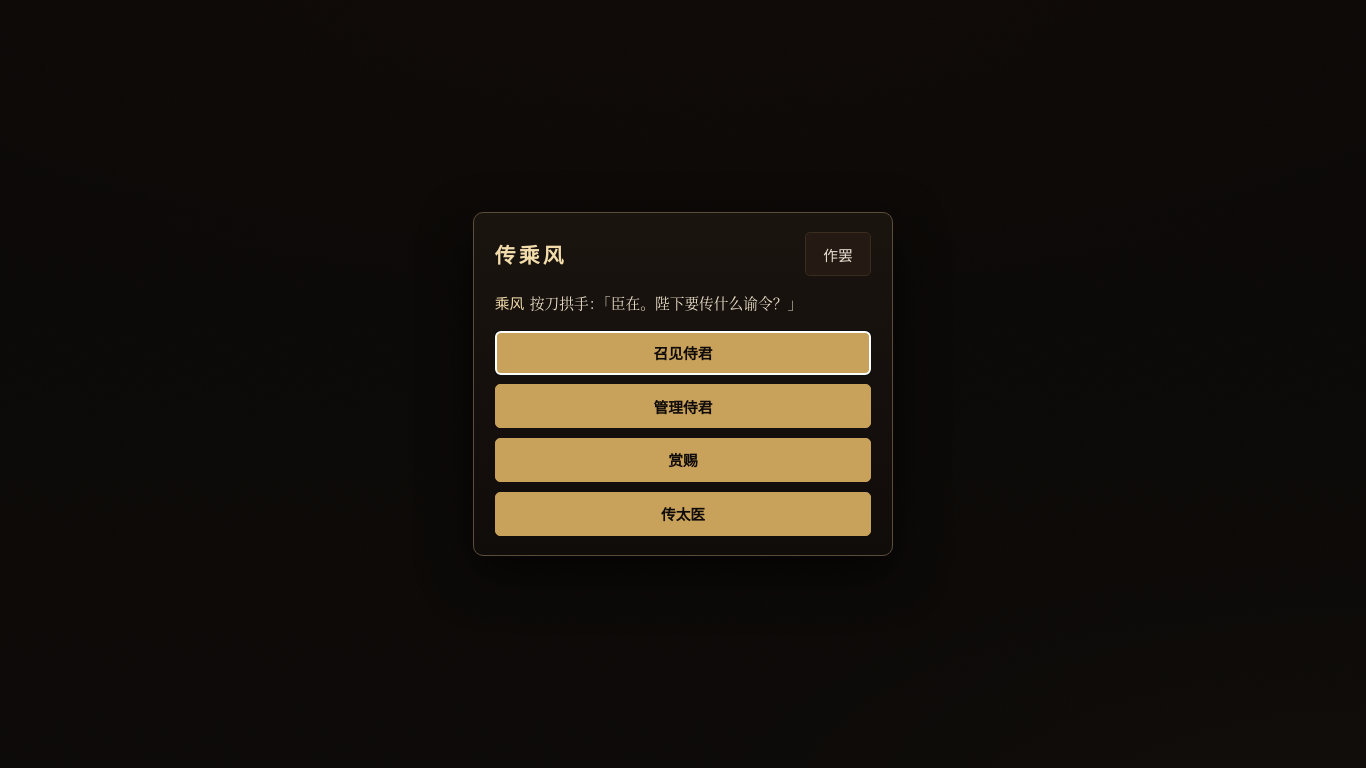
Test case: ChengfengDispatch › after a decree is claimed but the menu stays mounted, focus moves to the dialog and all decrees disable
Click the button "召见侍君".
click(683, 353)  # box [495,331,871,375]
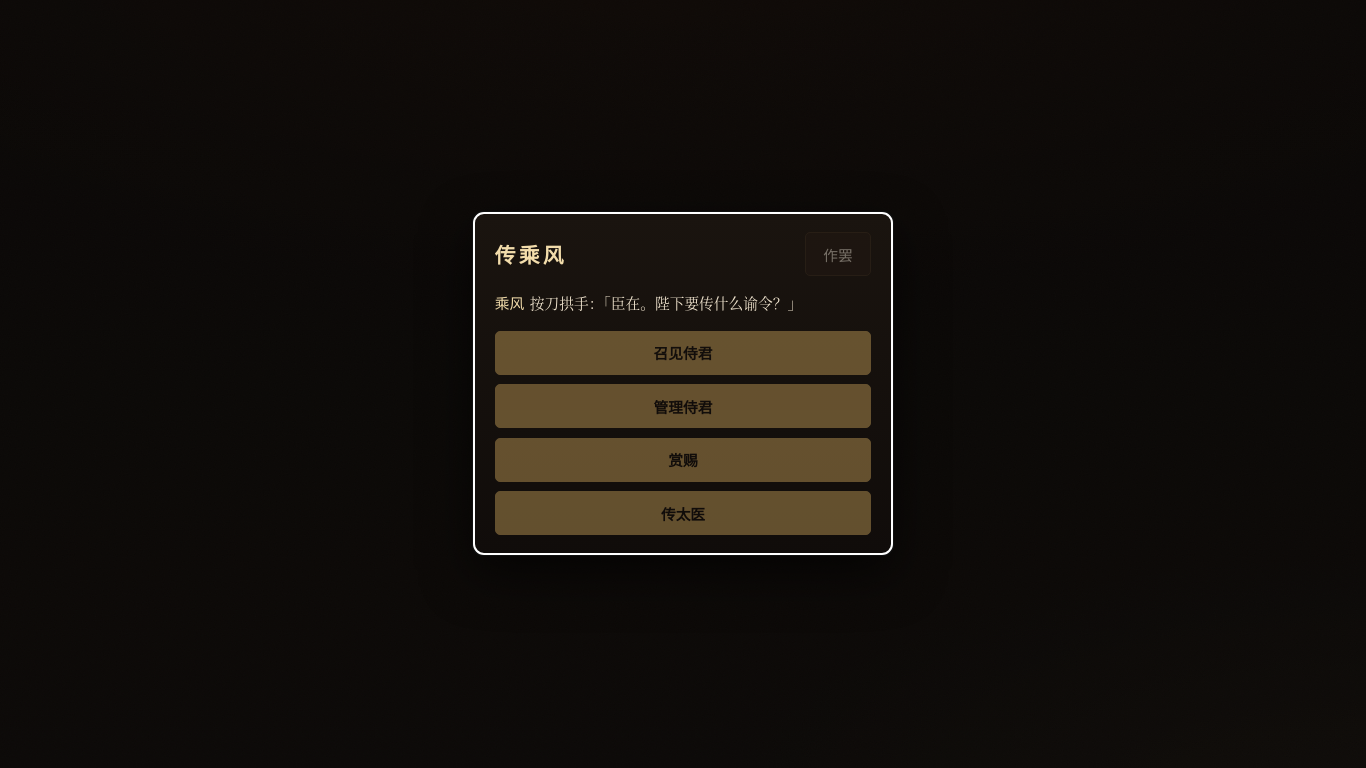
Now the button "召见侍君" is disabled, box [495,331,871,375]
Now the button "管理侍君" is disabled, box [495,384,871,428]
Now the button "赏赐" is disabled, box [495,438,871,482]
